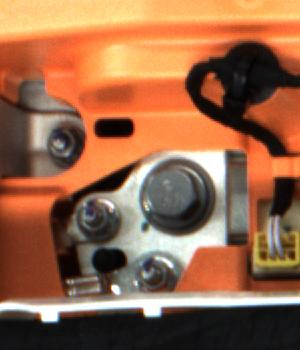nut_b: (136, 158, 218, 233)
screw_s: (77, 198, 111, 235), (135, 254, 168, 292), (47, 126, 74, 164)
